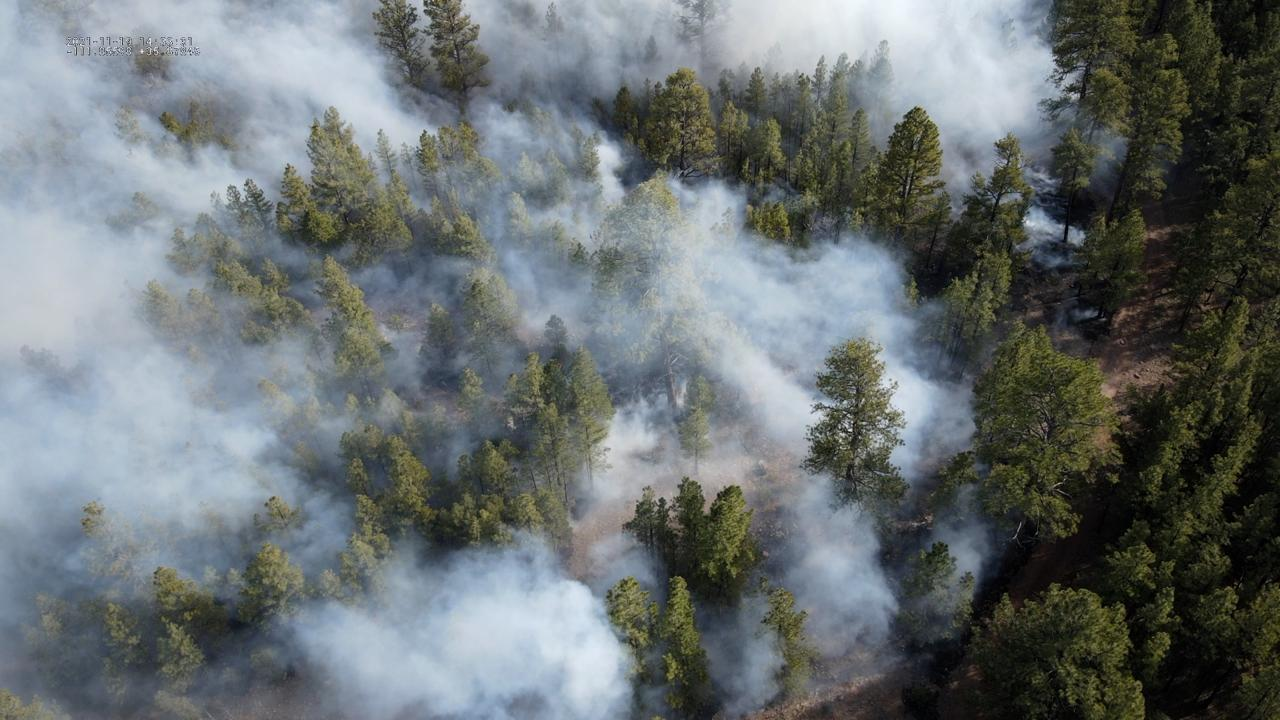smoke: (0, 0, 1131, 720)
